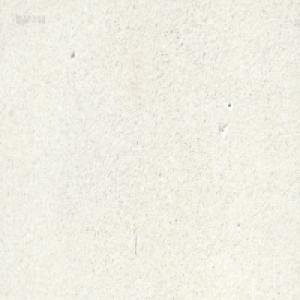Wrench: (138, 0, 144, 4)
